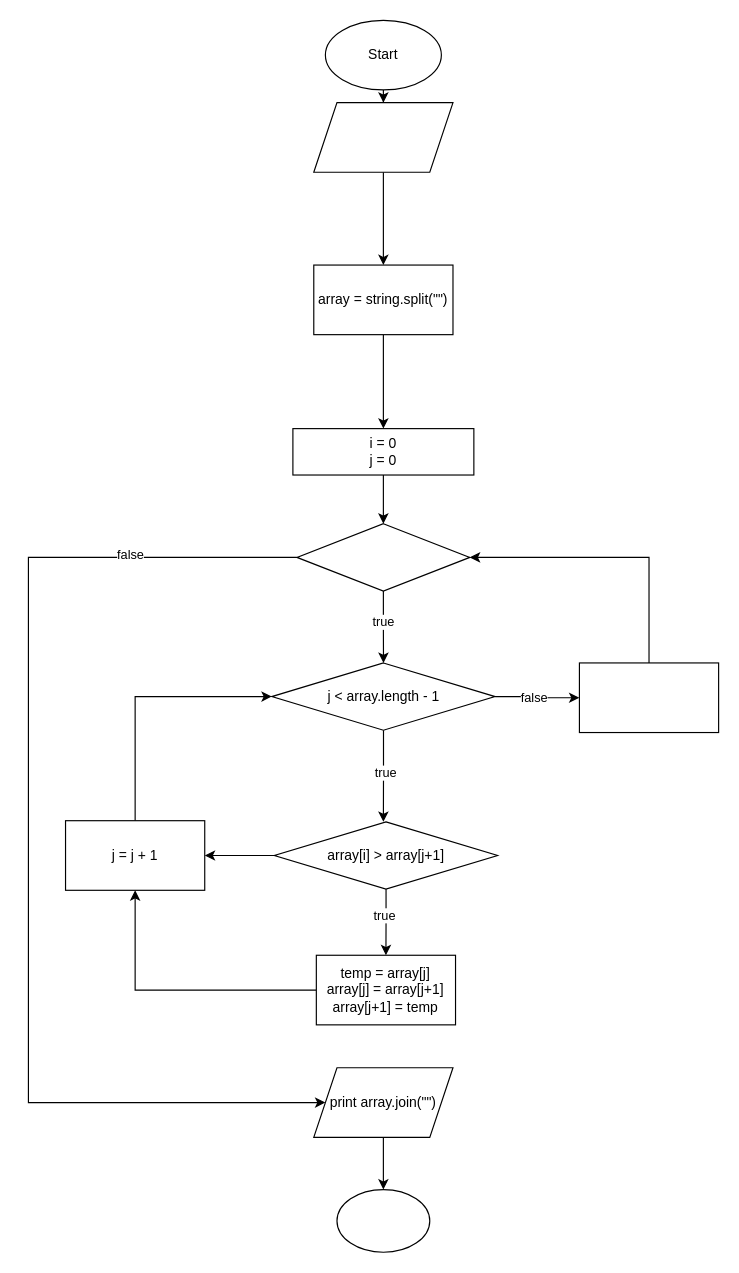
Image size: 739x1273. Some labels were removed from this diagram. Each missing label, with the centre of its shape:
"End" goes at (x=383, y=1220).
"i < array.length - 1" goes at (x=383, y=557).
"i = i + 1" goes at (x=648, y=697).
"string" goes at (x=383, y=137).
